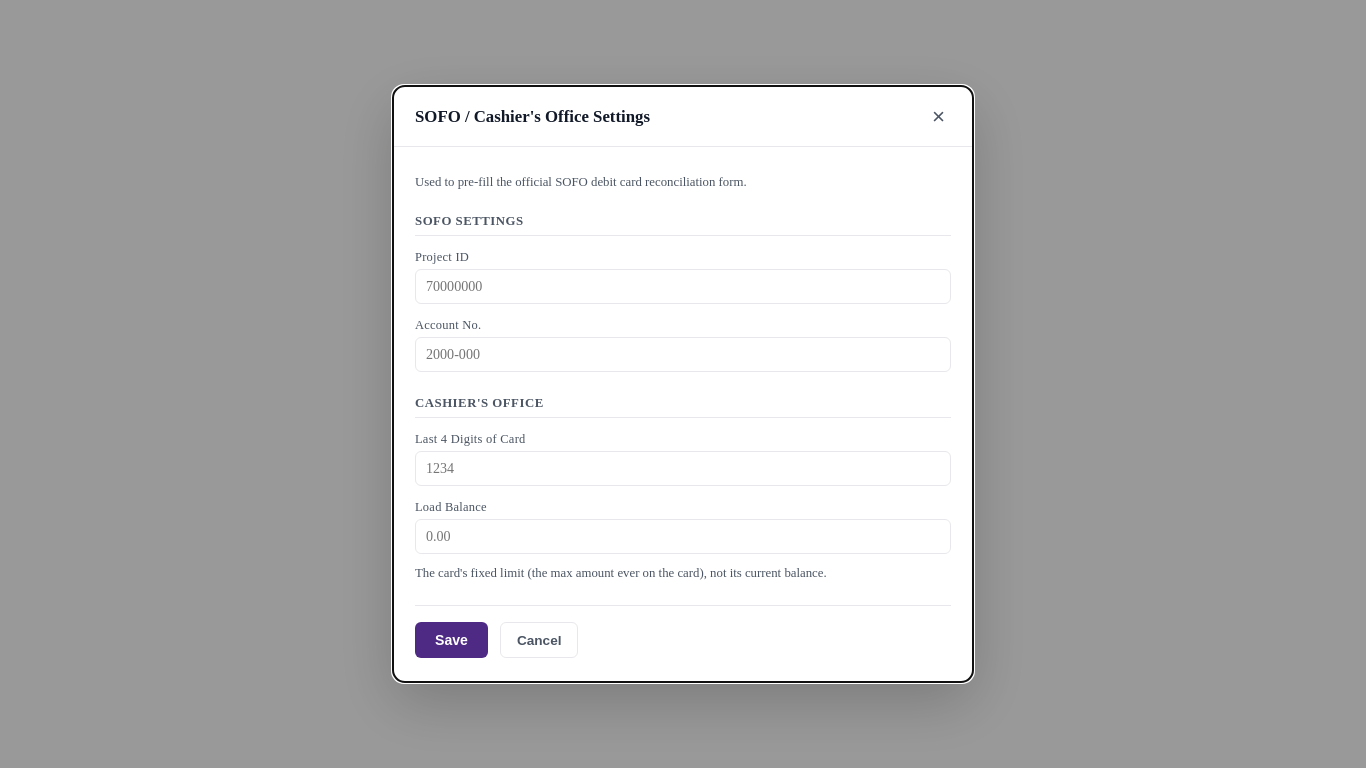
Test: DebitCardSettingsModal › rejects a last-4-digits value that is not exactly 4 numbers
Type "12" into the field labelled "Last 4 Digits of Card" at (683, 469), box [415,451,951,486]
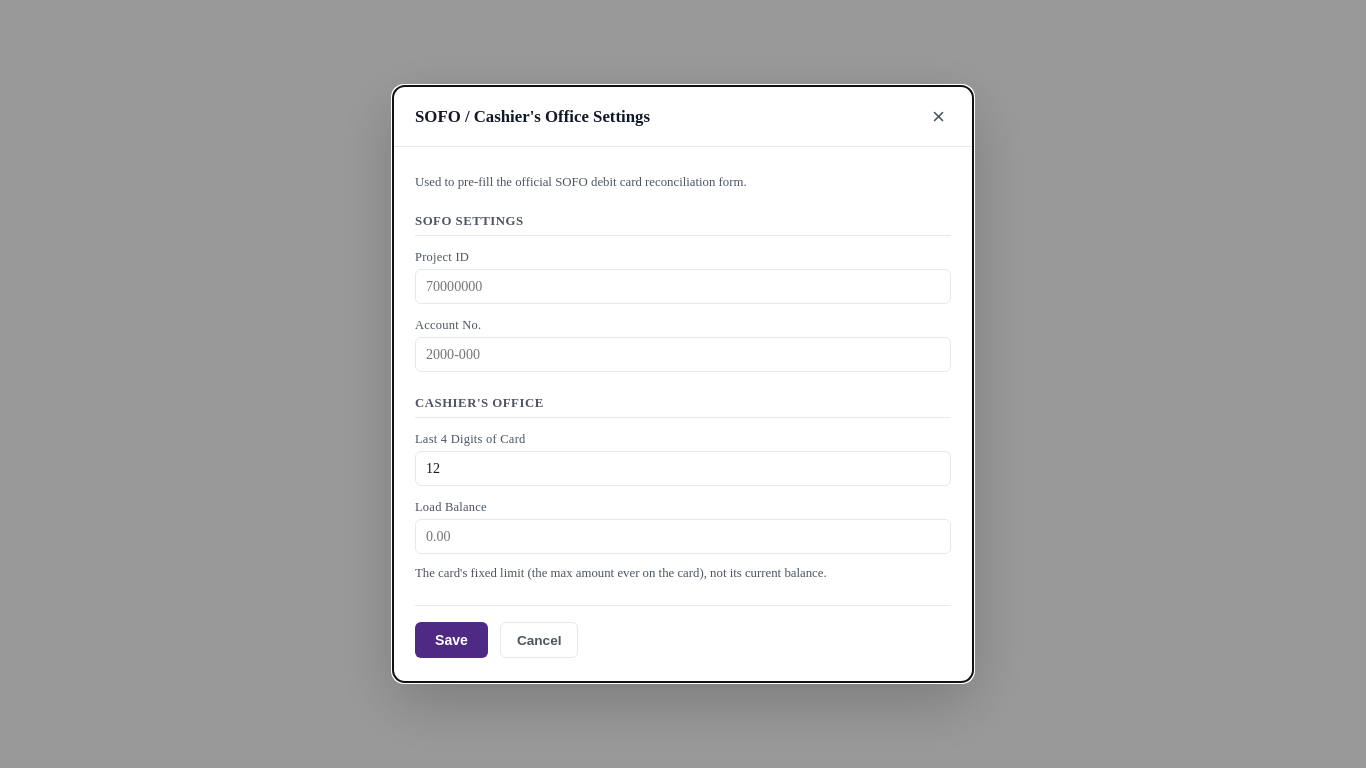
Click the button "Save" at (451, 640), box [415,622,488,658]
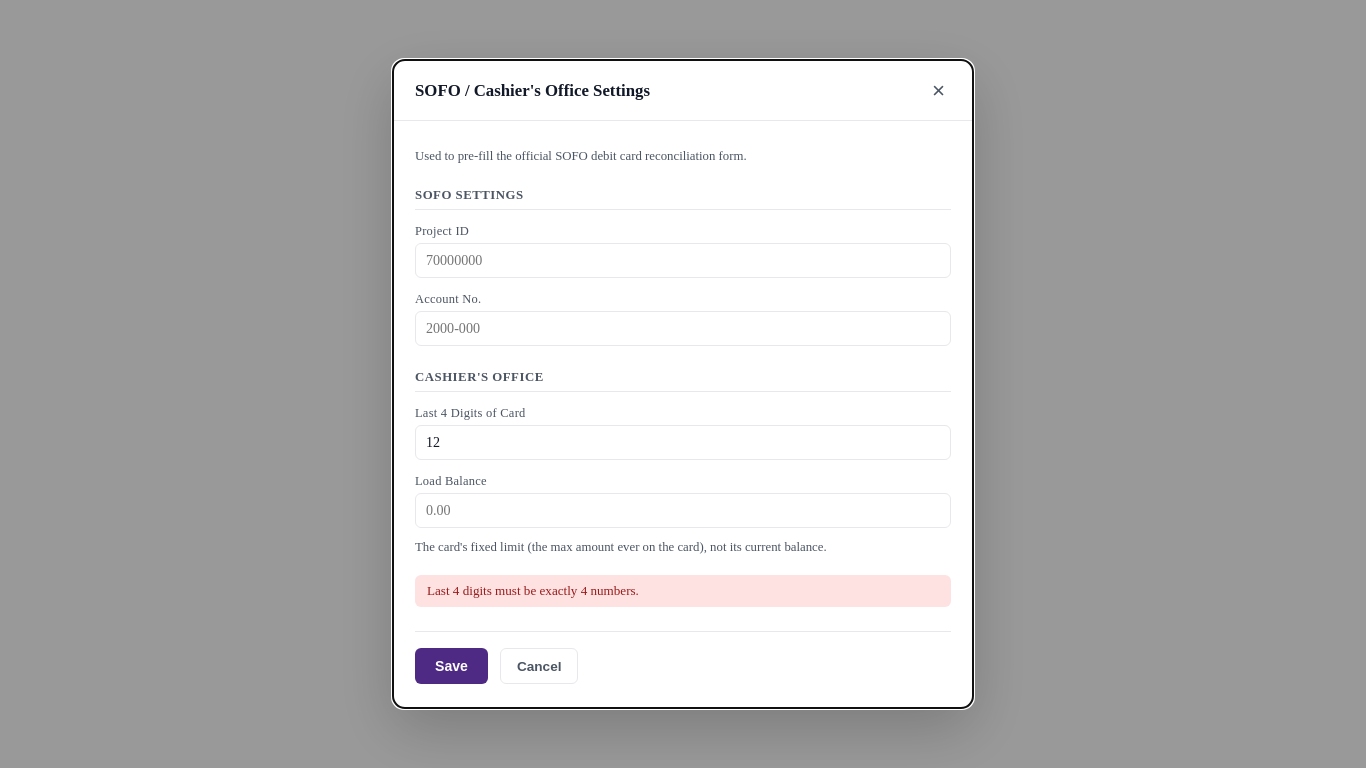
Result: the text "Last 4 digits must be exactly 4 numbers." is shown at [415,575,951,607]
